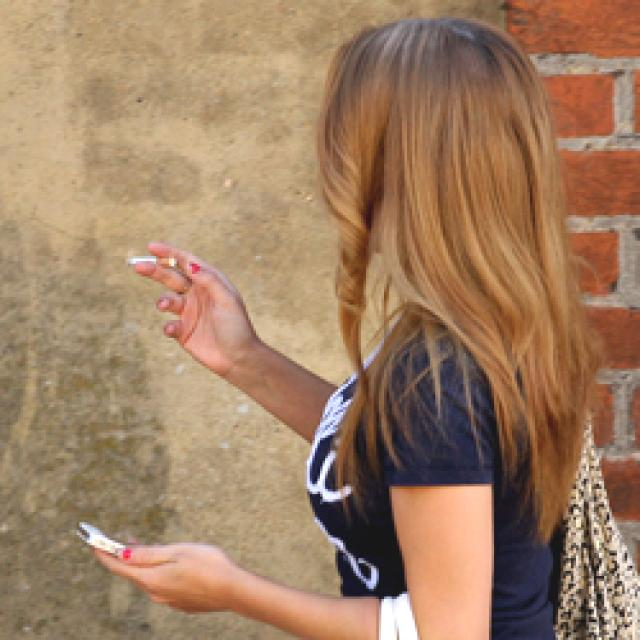Smooking: (124, 247, 182, 274)
